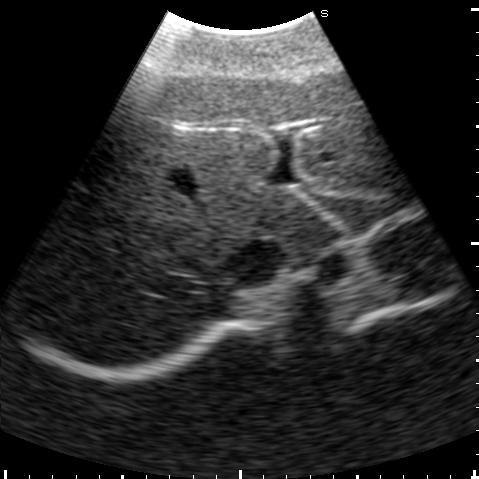IVC: (223, 240, 286, 286)
S1: (267, 196, 341, 266)
S2: (299, 184, 416, 234)
S3: (265, 67, 409, 192)
